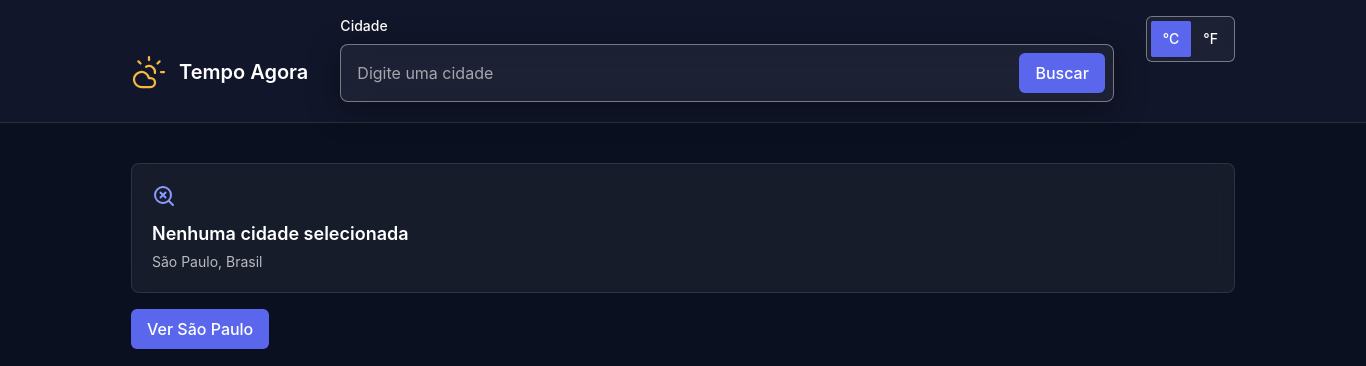
Test: App › dispensa resultados com Escape e anuncia busca vazia
Type "São Paulo" into the dropdown labelled "Cidade" at [680, 73], box 349,53 -> 1012,93
Then press Enter
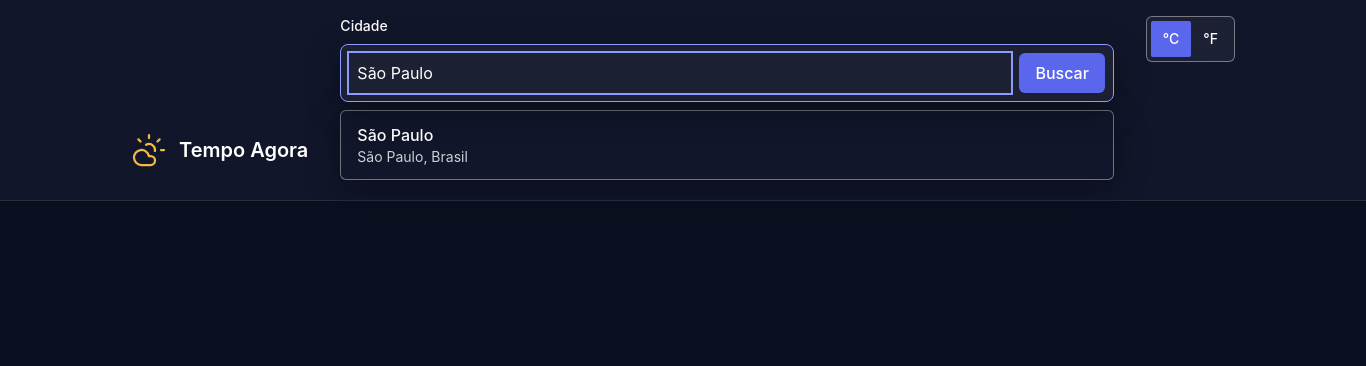
expect the list named "Cidades encontradas" is shown: met, box 340,110 -> 1114,180
Press Escape
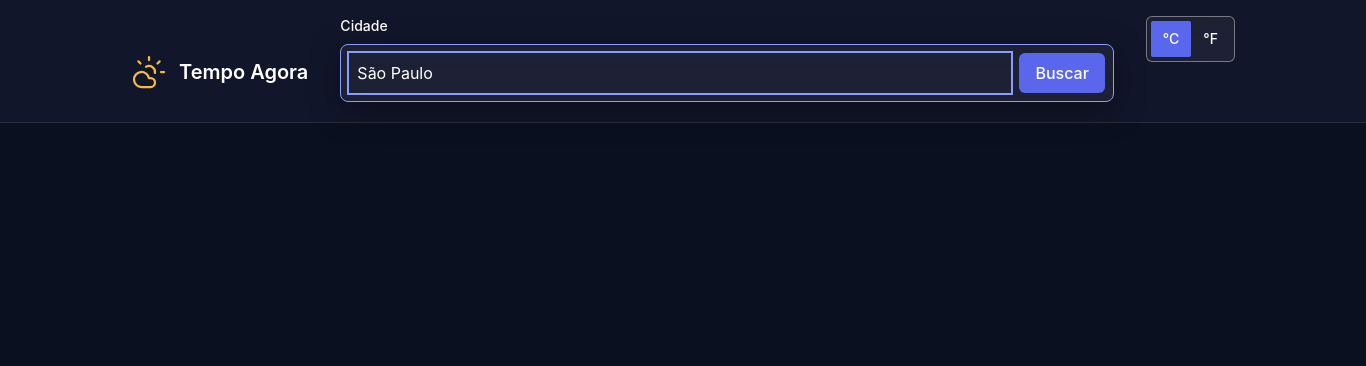
expect the list is gone: met
Replace the text in the dropdown labelled "Cidade" with "Atlantis" at [680, 73], box 349,53 -> 1012,93
Then press Enter
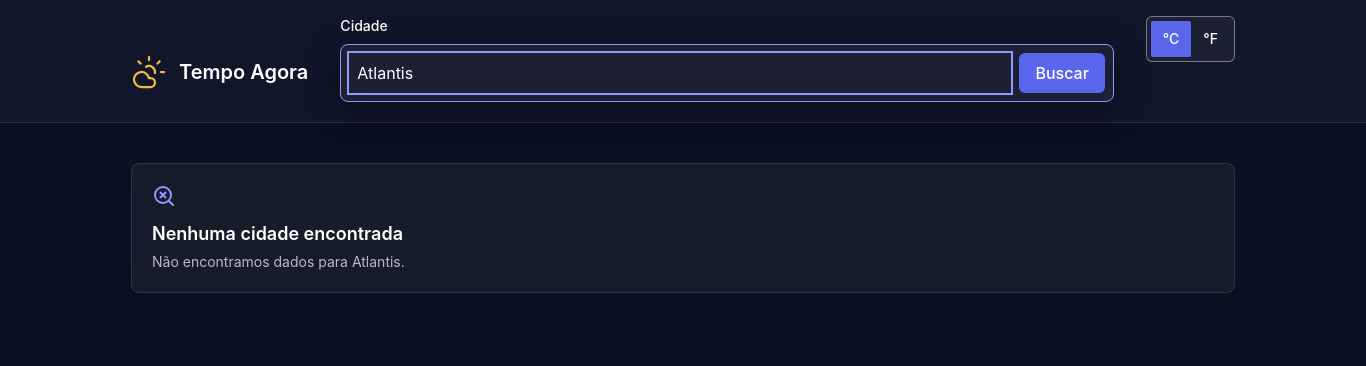
expect the heading "Nenhuma cidade encontrada" is shown: met, box 152,223 -> 403,244
